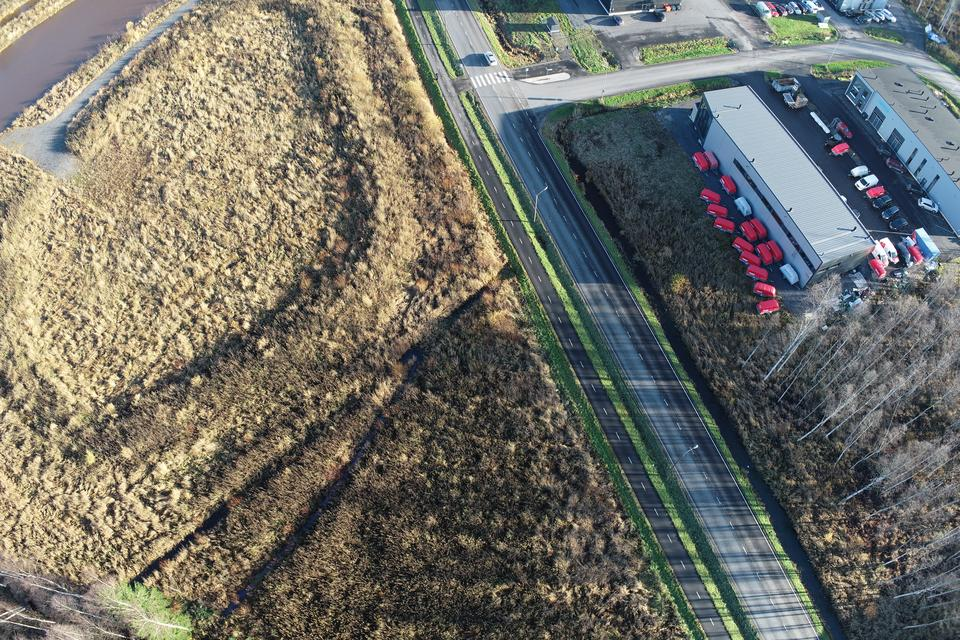intersection: (413, 52, 607, 135)
